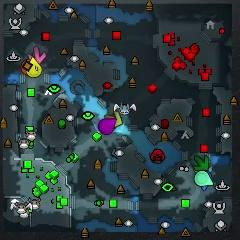p1: (200, 170, 212, 192)
p2: (195, 171, 213, 186)
p3: (98, 117, 116, 135)
p4: (26, 56, 42, 77)
p5: (20, 59, 29, 73)
x1: (28, 46, 46, 64)
x2: (105, 111, 122, 127)
x4: (194, 155, 209, 171)
